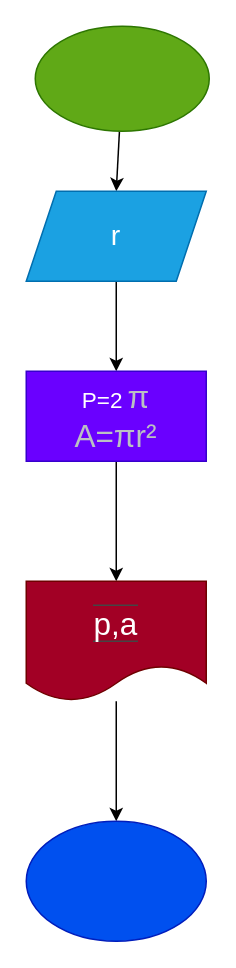
This 236x968 diagram has some shape labels left out. Here are the shapes that lost their labels. From the top down, the box of each, then its label:
(34, 25, 209, 131): INICIO
(25, 820, 206, 941): FIN
